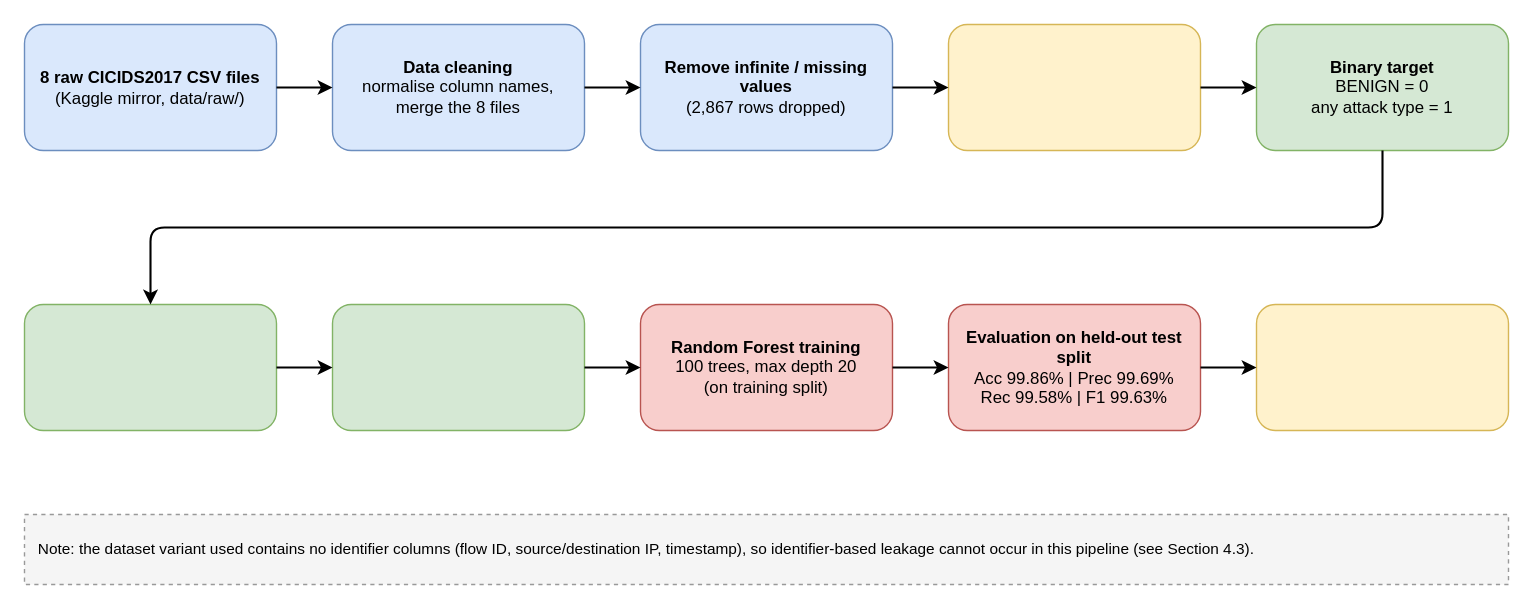
Some shapes in this 1533 by 609 pixel diagram are drawn without their labels. The shapes that lost their labels are listed below. From the top down, each one's box as (x1, y1, x2, y2) in pixels, then its label:
(947, 23, 1200, 150): cicids2017_cleaned.csv 2,827,876 flows 78 features + label
(23, 303, 276, 430): 20% random sample (fixed seed 42) 565,575 flows
(331, 303, 584, 430): Stratified 80/20 split train: 452,460 test: 113,115
(1255, 303, 1508, 430): rf_model.pkl (12.4 MB model artefact)
